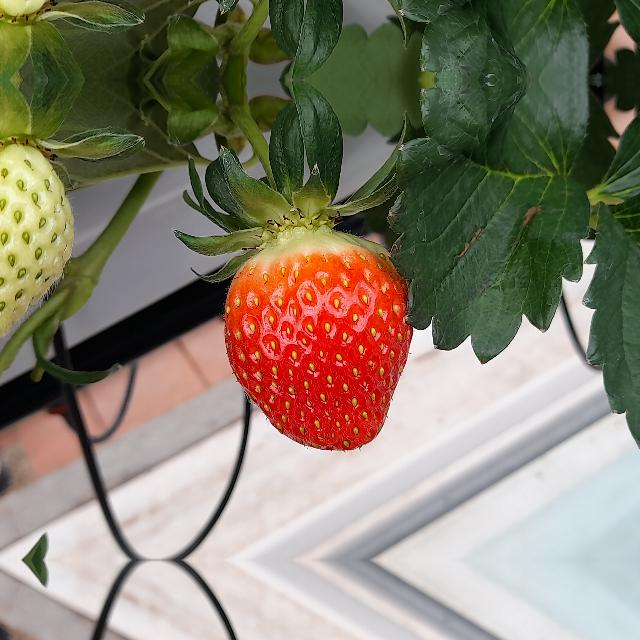Health_100: (224, 224, 412, 450)
Health_25: (0, 128, 74, 346)
